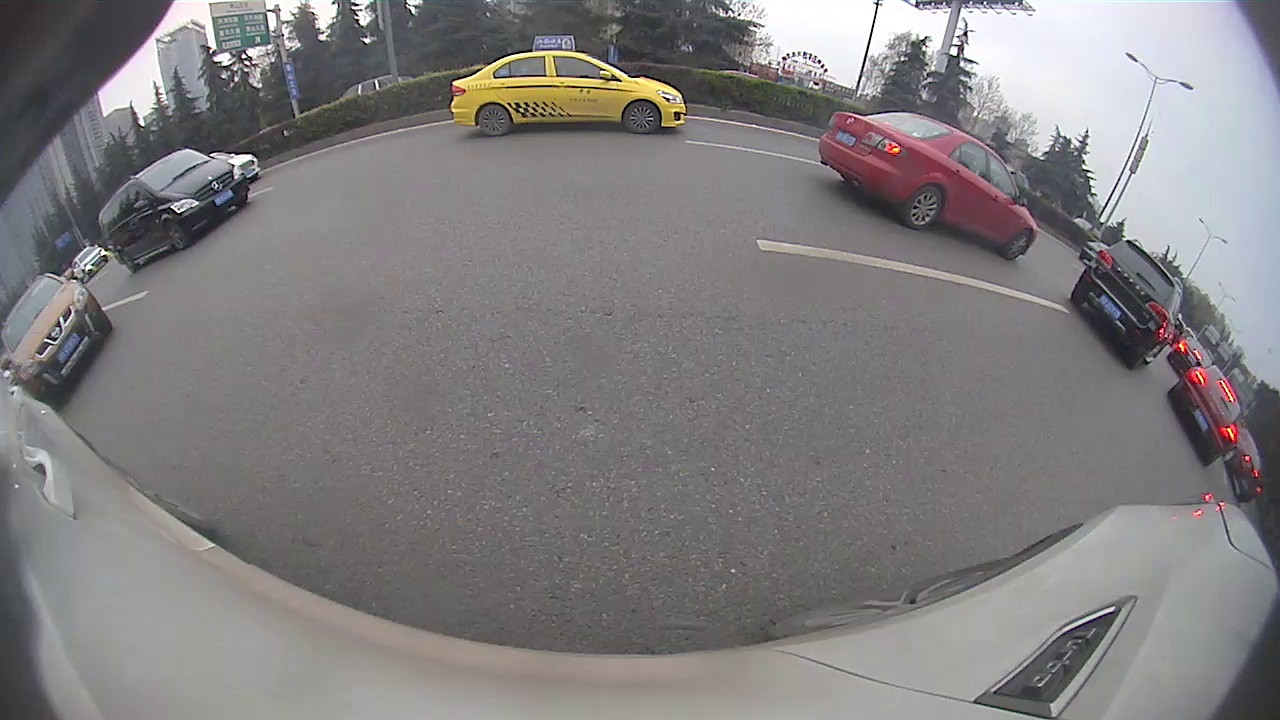car: (1, 172, 264, 462), (697, 135, 847, 225), (444, 146, 553, 217), (261, 201, 361, 263), (358, 187, 425, 221), (220, 223, 276, 263)
front: (197, 286, 257, 354), (697, 175, 710, 200), (542, 174, 555, 198)
person: (853, 143, 869, 195)
rear: (727, 178, 742, 216), (514, 176, 527, 209), (338, 218, 351, 232)
